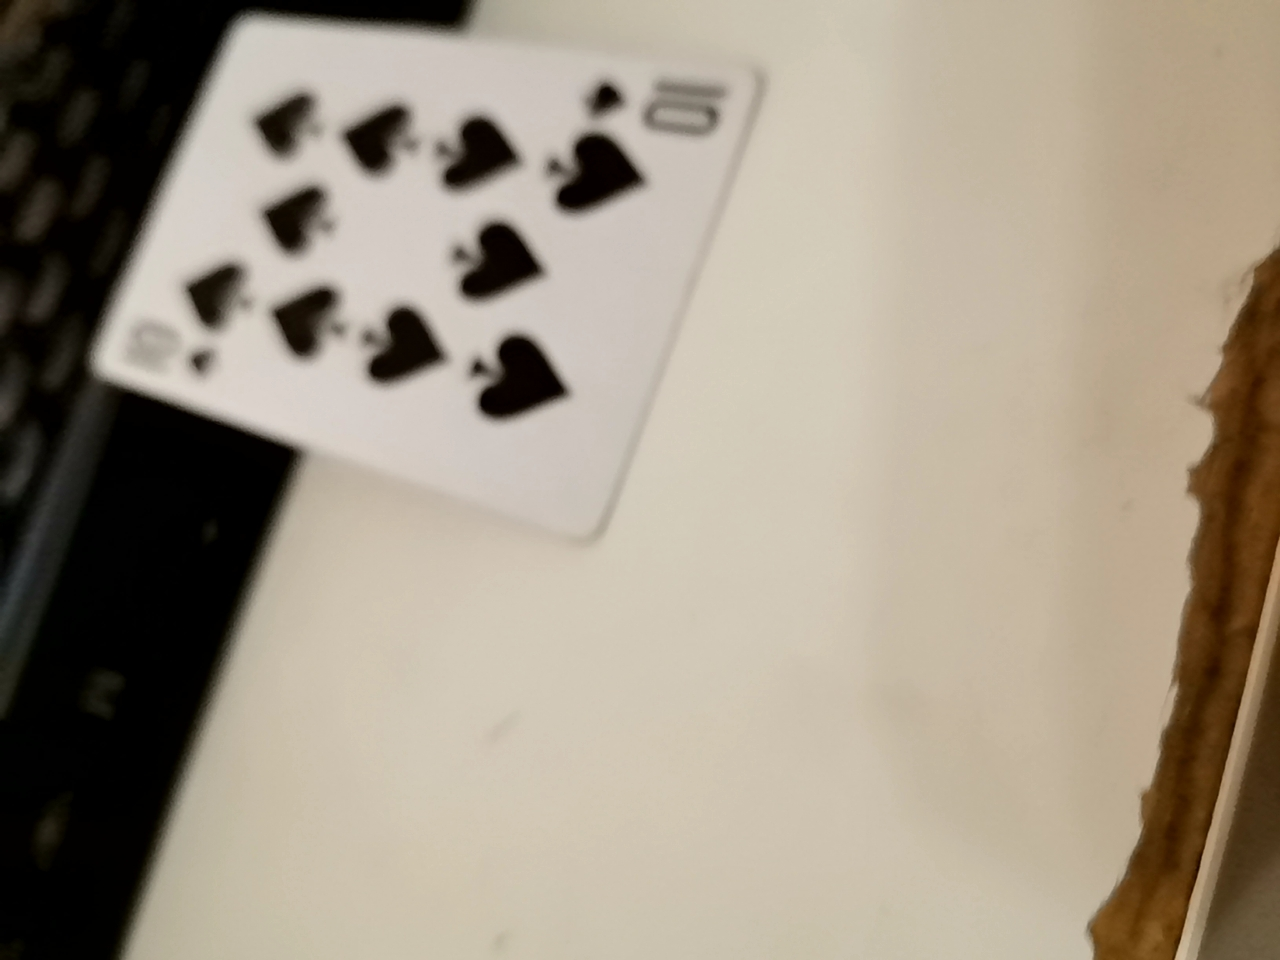ht 10: (109, 42, 733, 541)
